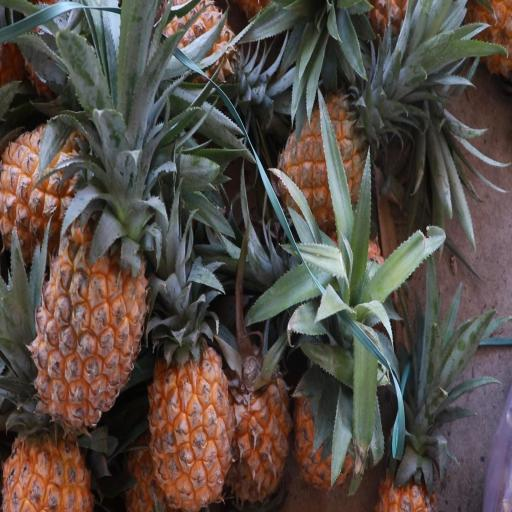Pineapple - v8 v1: (25, 189, 147, 432), (0, 111, 139, 261), (272, 88, 380, 242), (144, 340, 234, 510), (0, 366, 97, 512), (230, 331, 296, 506), (294, 351, 369, 498)
